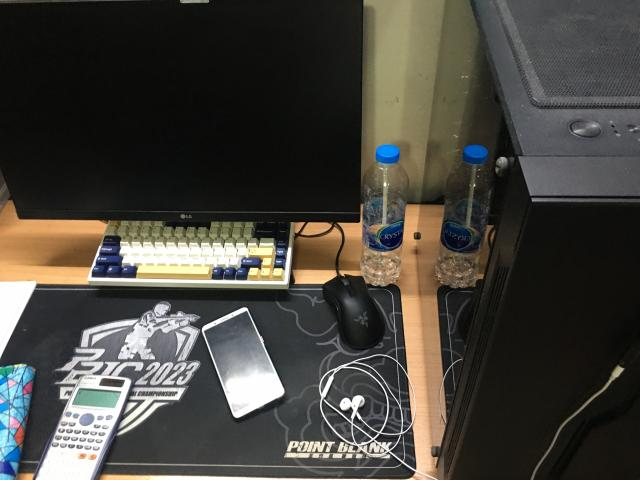Mobile phone: (202, 308, 285, 418)
Mouse: (322, 275, 385, 350)
bottle: (361, 145, 409, 286)
paper: (0, 281, 36, 356)
wire: (319, 354, 425, 475)
